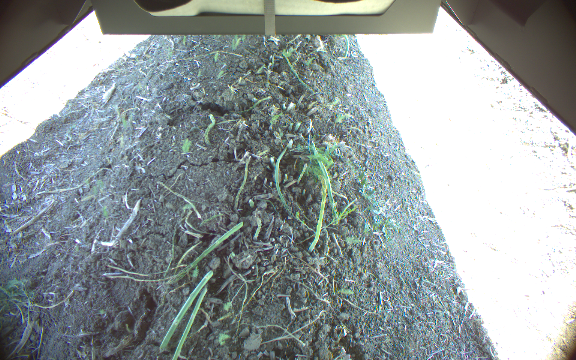aspa: (308, 174, 327, 255), (252, 215, 263, 242)
